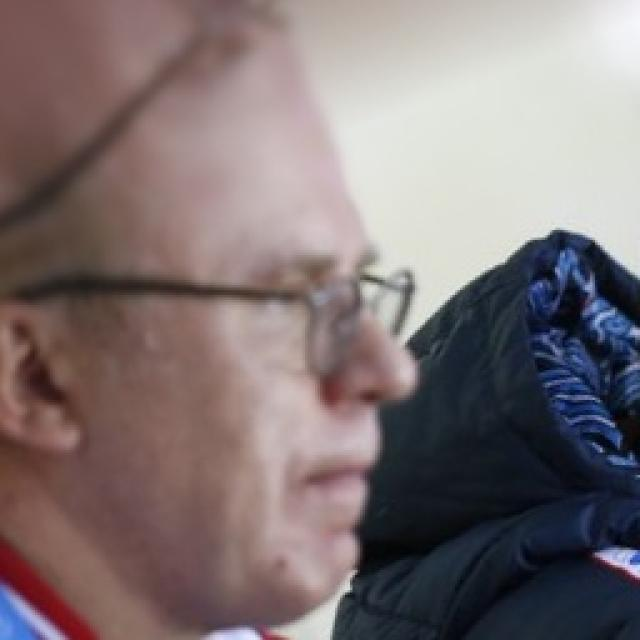glasses: (1, 269, 438, 385)
